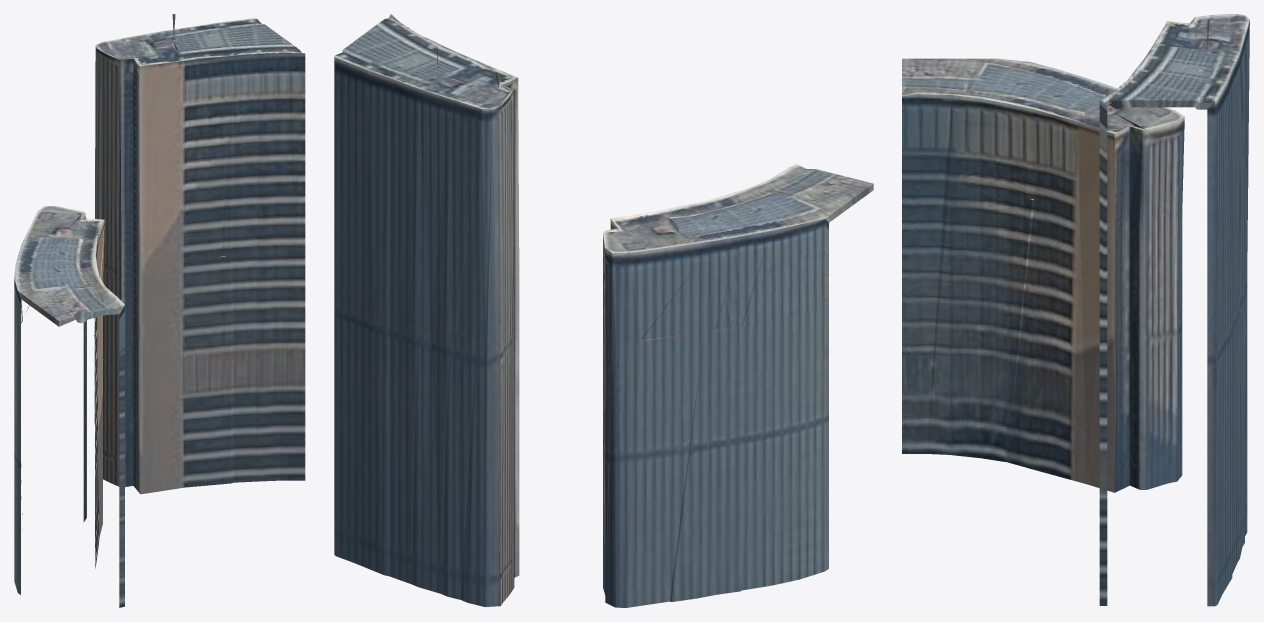
Rendered from chunk_-7_5.glb.
3 renders of one model, left to right at view 1: azimuth 30°, elevation 25°; view 2: azimuth 150°, elevation 25°; view 3: azimuth 270°, elevation 25°, orthographic. The views are drawn at different scales.
Parts seen in each view (by area): view 1: hero-chunk; view 2: hero-chunk; view 3: hero-chunk.
Boxes of the visible parts, bbox=[...] form: hero-chunk: bbox=[14, 14, 305, 607]; hero-chunk: bbox=[334, 14, 873, 607]; hero-chunk: bbox=[902, 14, 1249, 606].
Bounding box in the file's own units: 56.04 × 73.03 × 42.78.
Materials: 1 (1 with a texture image).
